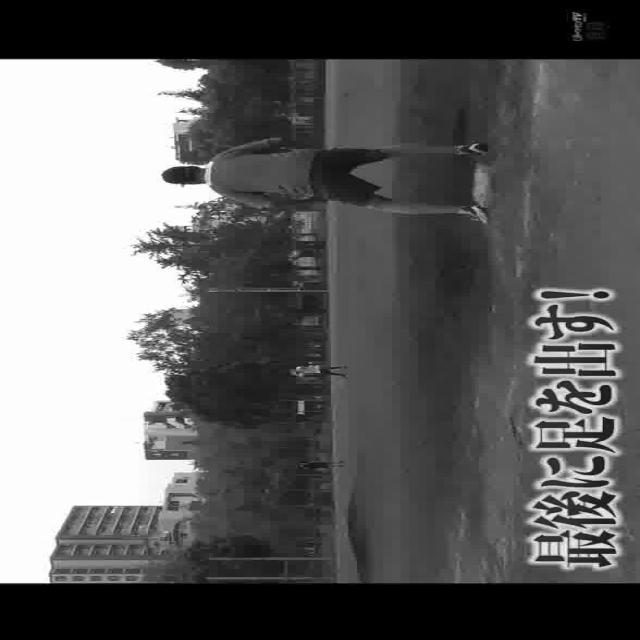base: (476, 165, 496, 208)
shoe: (459, 206, 494, 223), (458, 140, 493, 152)
